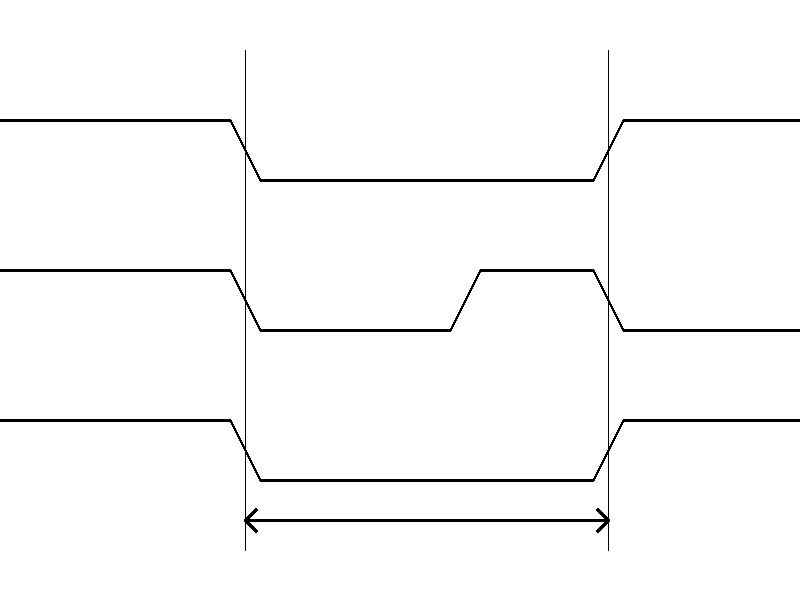double_arrow: (245, 505, 608, 535)
